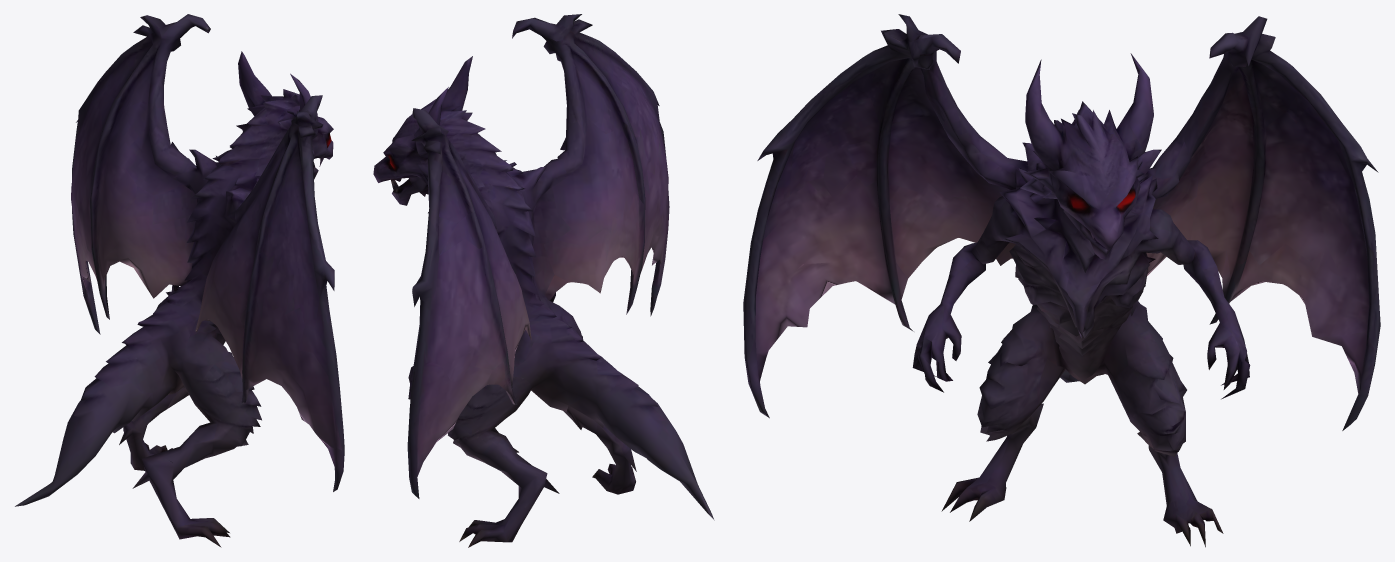
File: mob_bat.glb
3 renders of one model, left to right at view 1: azimuth 30°, elevation 25°; view 2: azimuth 150°, elevation 25°; view 3: azimuth 270°, elevation 25°, orthographic. The views are drawn at different scales.
Parts seen in each view (by area): view 1: tripo_node_d7243735-b5c5-4c56-8a43-19d30bd9e05f; view 2: tripo_node_d7243735-b5c5-4c56-8a43-19d30bd9e05f; view 3: tripo_node_d7243735-b5c5-4c56-8a43-19d30bd9e05f.
Boxes of the visible parts, bbox=[...] form: tripo_node_d7243735-b5c5-4c56-8a43-19d30bd9e05f: bbox=[15, 14, 344, 547]; tripo_node_d7243735-b5c5-4c56-8a43-19d30bd9e05f: bbox=[373, 14, 714, 547]; tripo_node_d7243735-b5c5-4c56-8a43-19d30bd9e05f: bbox=[743, 14, 1380, 547].
Size of the model in its own units: 0.7367 by 0.9274 by 1.
Materials: 1 (1 with a texture image).
